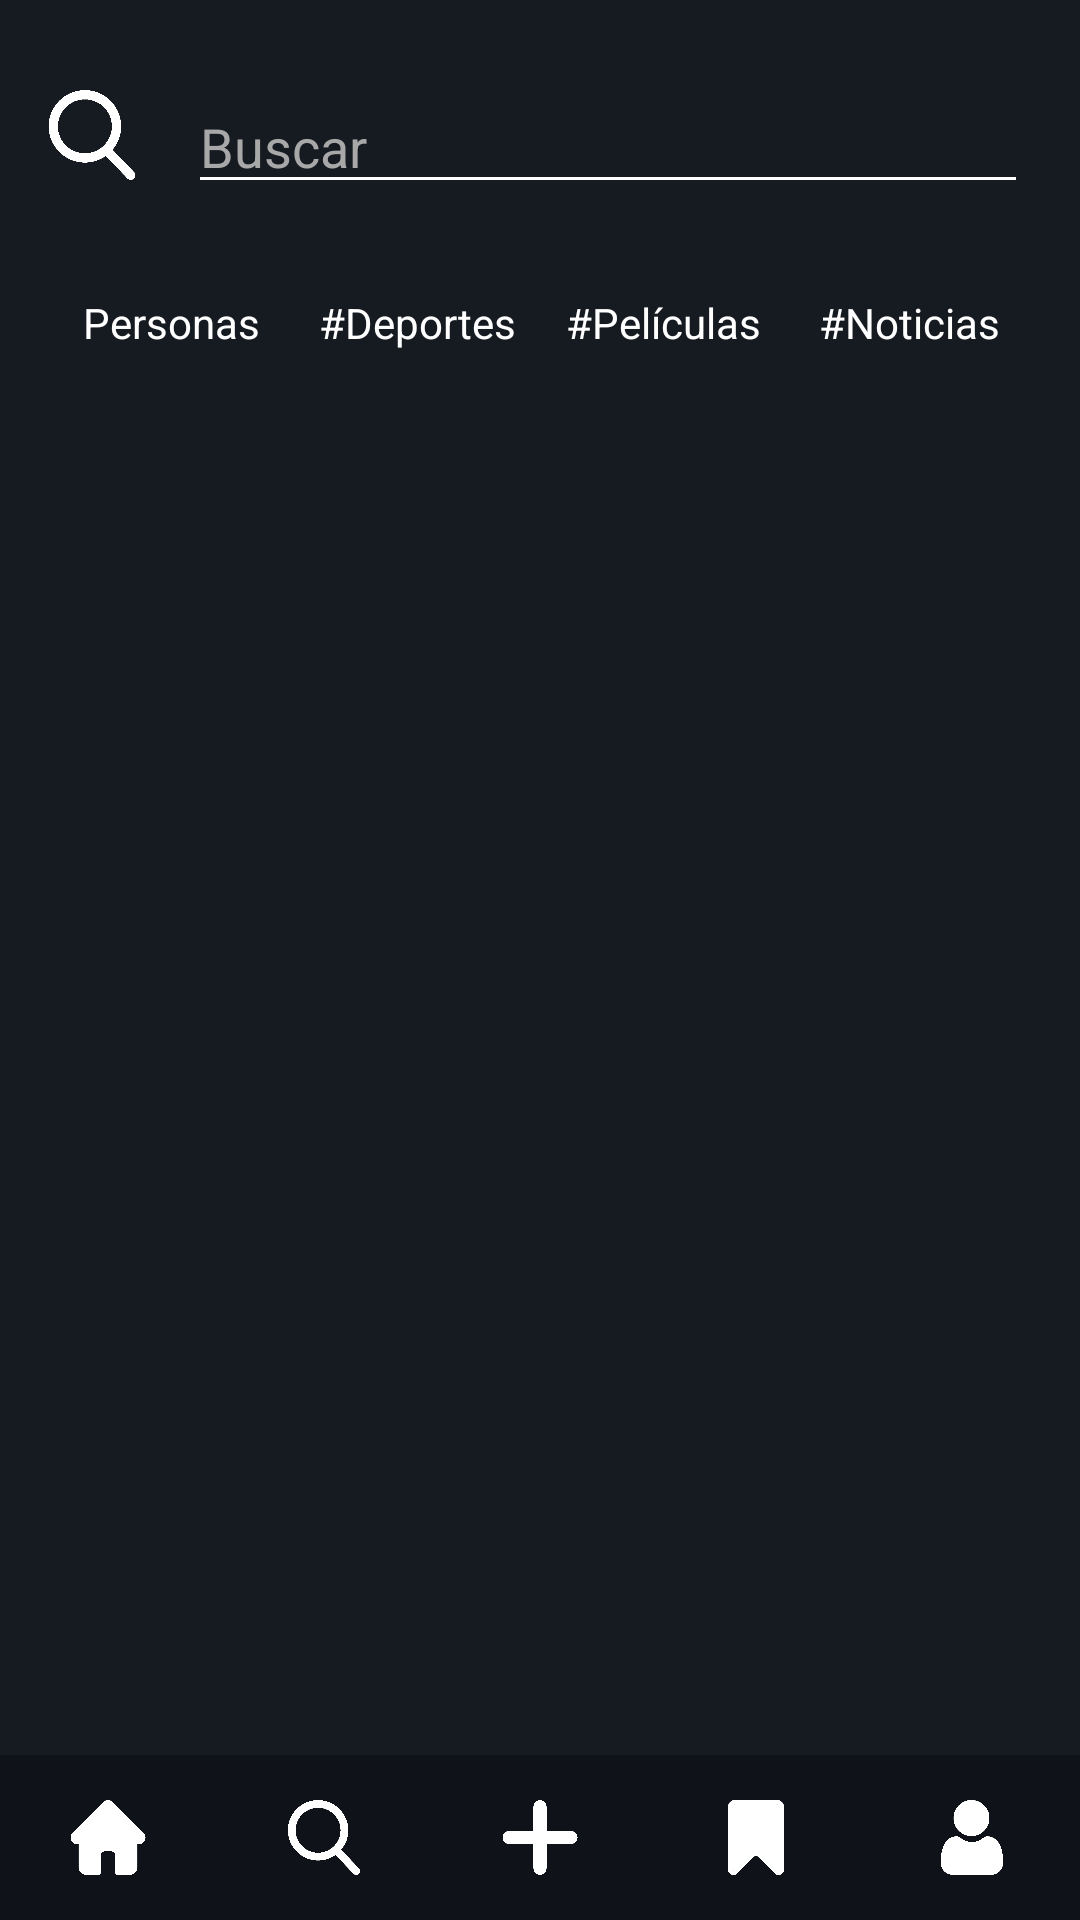

Screen size 1080px×1920px. Icon name, then its box in pixels as (left=x1, top=y1, right=x2, bottom=y2):
home: (left=71, top=1800, right=146, bottom=1875)
perfil: (left=941, top=1800, right=1003, bottom=1875)
plus: (left=503, top=1800, right=578, bottom=1875)
saved: (left=728, top=1800, right=784, bottom=1875)
search: (left=49, top=90, right=135, bottom=180), (left=288, top=1800, right=360, bottom=1875)
